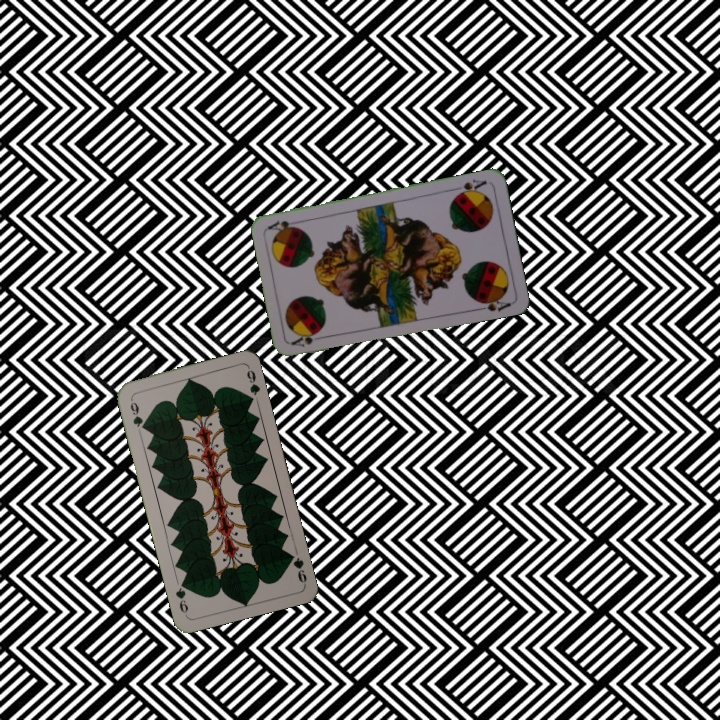G9: (284, 549, 309, 587), (126, 394, 148, 432)
SA: (450, 175, 489, 199), (287, 328, 328, 349)
